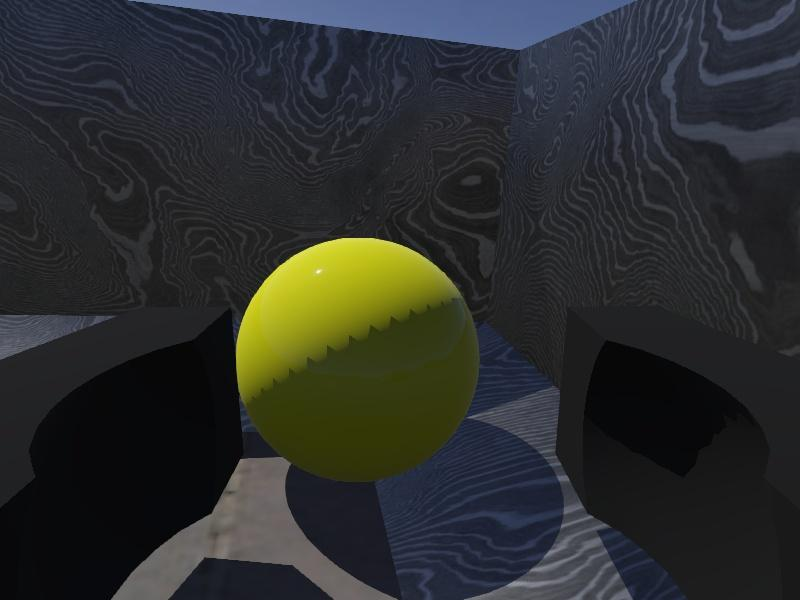yellow ball: (236, 236, 482, 485)
